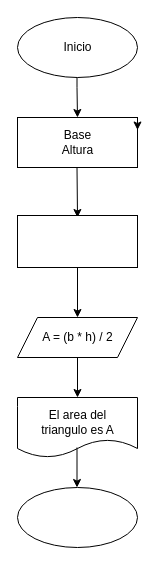
Some shapes in this 163 by 565 pixel diagram are drawn without their labels. The shapes that lost their labels are listed below. From the top down, each one's centre as x and y in pixels, then its label:
(77,241): B h
(77,517): Fin
